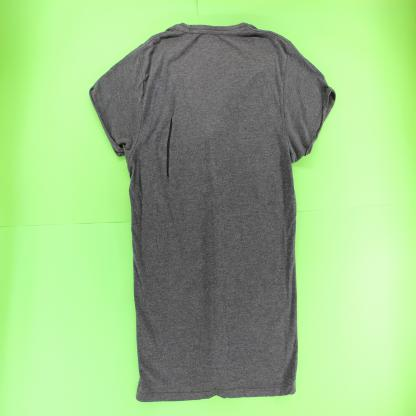hole: (165, 114, 174, 184)
